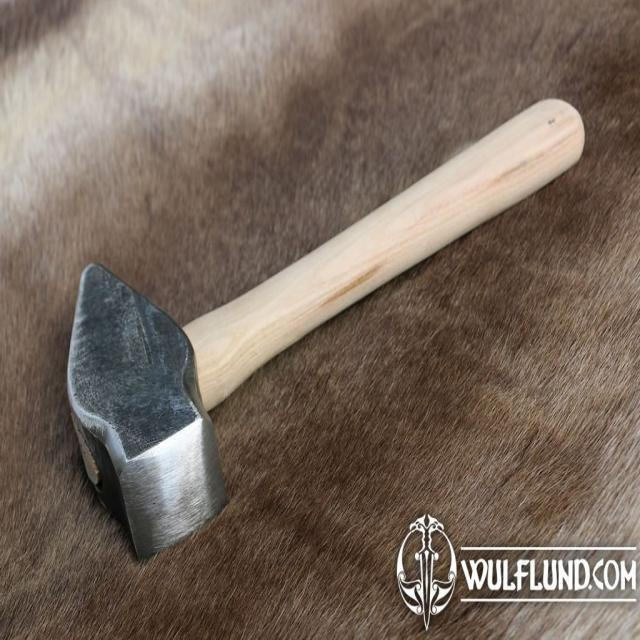hammer: (62, 90, 590, 562)
